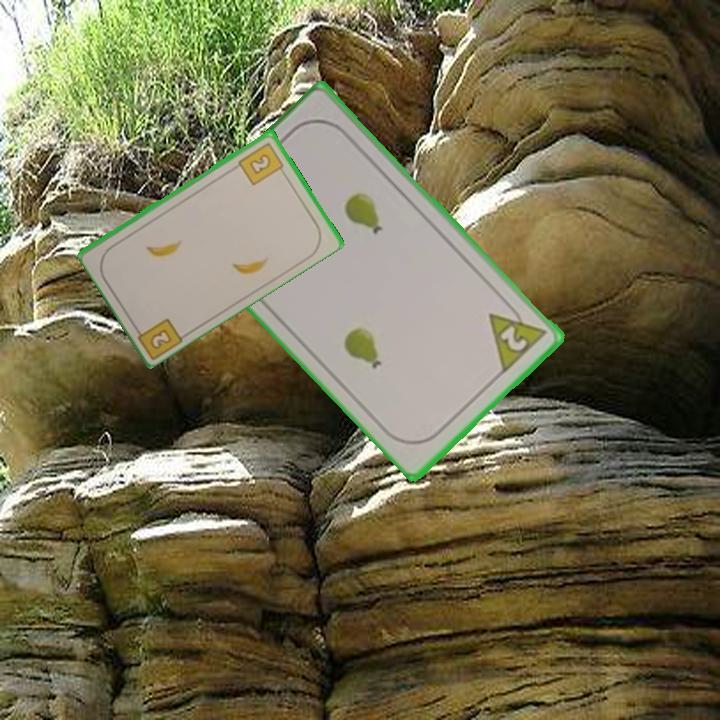2b: (235, 138, 287, 188), (130, 314, 186, 360)
2p: (485, 296, 550, 375)
